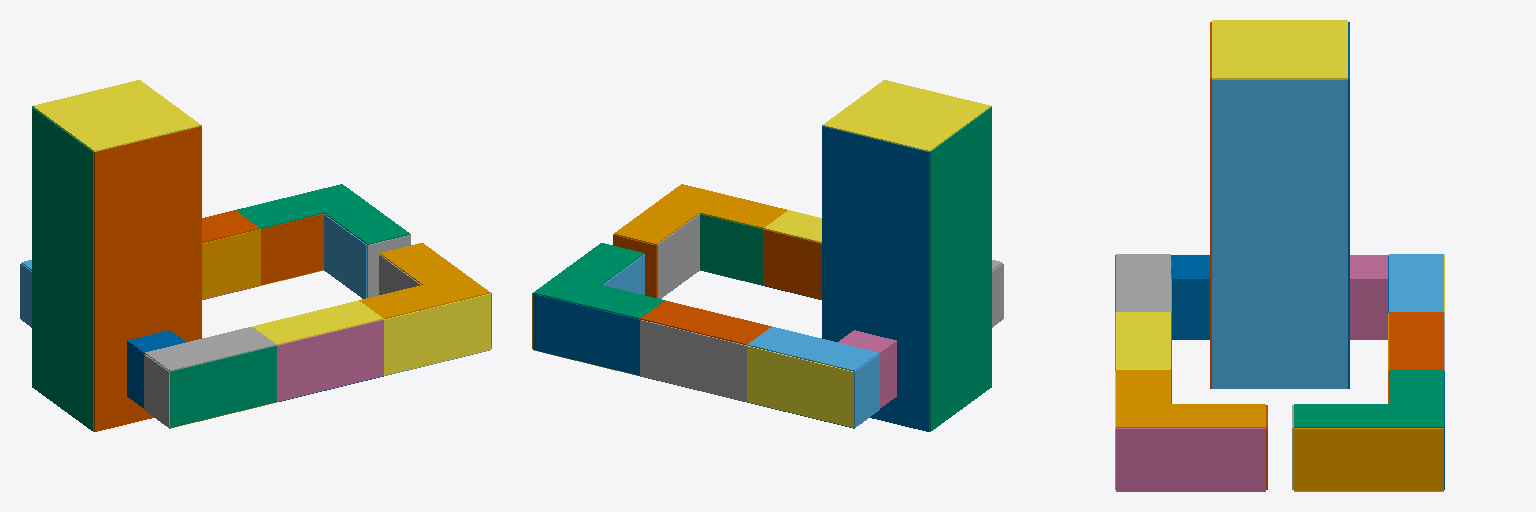
--- What the picture shows (computed from the rendered views, not written in the file) ---
The picture shows the robot from 3 angles, left to right: view 1: azimuth 30°, elevation 25°; view 2: azimuth 150°, elevation 25°; view 3: azimuth 270°, elevation 25°; orthographic projection.
Model robot with 72 links and 71 joints (2 continuous, 69 fixed), rooted at body, posed all joints at 0.
Links seen in each view (by area): view 1: body_sensor_0_right, body_sensor_0_stop, body_sensor_0_top, right_arm_sensor_2_right, right_arm_sensor_0_right, right_arm_sensor_1_right, left_arm_sensor_2_right, left_arm_sensor_1_right, right_arm_sensor_0_top, right_arm_sensor_1_top, right_arm_sensor_2_top, left_arm_sensor_2_top (+9 smaller); view 2: body_sensor_0_left, body_sensor_0_stop, body_sensor_0_top, left_arm_sensor_2_left, left_arm_sensor_0_left, left_arm_sensor_1_left, right_arm_sensor_2_left, right_arm_sensor_1_left, left_arm_sensor_0_top, left_arm_sensor_1_top, left_arm_sensor_2_top, right_arm_sensor_2_top (+9 smaller); view 3: body_sensor_0_start, body_sensor_0_top, left_hand_sensor_0_top, right_hand_sensor_0_top, left_arm_sensor_0_start, right_arm_sensor_0_start, right_shoulder, left_shoulder, left_arm_sensor_0_top, left_arm_sensor_1_top, left_arm_sensor_2_top, right_arm_sensor_0_top (+6 smaller).
Link boxes in pixels (x1,y1,x2,y2): body_sensor_0_right: (94,126,201,431); body_sensor_0_stop: (32,107,93,431); body_sensor_0_top: (33,80,200,151); right_arm_sensor_2_right: (384,293,490,375); right_arm_sensor_0_right: (170,346,276,427); right_arm_sensor_1_right: (277,320,383,401); left_arm_sensor_2_right: (261,214,323,284); left_arm_sensor_1_right: (202,229,260,299); right_arm_sensor_0_top: (145,327,276,371); right_arm_sensor_1_top: (252,300,383,344); right_arm_sensor_2_top: (359,274,489,318); left_arm_sensor_2_top: (236,184,365,228); body_sensor_0_left: (822,126,929,431); body_sensor_0_stop: (930,107,991,431); body_sensor_0_top: (823,80,990,151); left_arm_sensor_2_left: (533,293,639,375); left_arm_sensor_0_left: (747,346,853,427); left_arm_sensor_1_left: (640,320,746,401); right_arm_sensor_2_left: (700,214,762,284); right_arm_sensor_1_left: (763,229,821,299); left_arm_sensor_0_top: (747,327,878,371); left_arm_sensor_1_top: (640,300,771,344); left_arm_sensor_2_top: (534,274,664,318); right_arm_sensor_2_top: (658,184,787,228); body_sensor_0_start: (1212,79,1347,388); body_sensor_0_top: (1212,20,1347,78); left_hand_sensor_0_top: (1294,428,1388,490); right_hand_sensor_0_top: (1171,428,1265,490); left_arm_sensor_0_start: (1389,428,1443,490); right_arm_sensor_0_start: (1116,428,1170,490); right_shoulder: (1171,255,1209,339); left_shoulder: (1350,255,1388,339); left_arm_sensor_0_top: (1389,254,1443,311); left_arm_sensor_1_top: (1389,312,1443,369); left_arm_sensor_2_top: (1389,370,1443,427); right_arm_sensor_0_top: (1116,254,1170,311).
Size in the robot's own frame: 3.32 by 2.42 by 2.51 metres.
Geometry: primitives only (box / cylinder / sphere), no mesh files.

The robot description file, URDF, robot "robot":
<?xml version="1.0"?>
<robot name="robot">


    <!-- body -->
    <link name="body">
        <inertial>
            <origin xyz="0 0 0" rpy="0 0 0"/>
            <mass value="100"/>
            <inertia ixx=".1" ixy=".1" ixz=".1" iyy=".1" iyz=".1" izz=".1"/>
        </inertial>
        <visual>
            <origin xyz="0 0 0" rpy="0 0 0"/>
            <geometry>
                <box size="1 1 2.5"/>
            </geometry>
        </visual>
        <collision>
            <origin xyz="0 0 0" rpy="0 0 0"/>
            <geometry>
                <box size="1 1 2.5"/>
            </geometry>
        </collision>
    </link>


    <!-- body_sensor_0_start -->
    <link name="body_sensor_0_start">
        <inertial>
            <origin xyz="0 0 0" rpy="0 0 0"/>
            <mass value="0"/>
            <inertia ixx=".1" ixy=".1" ixz=".1" iyy=".1" iyz=".1" izz=".1"/>
        </inertial>
        <visual>
            <origin xyz="0 0 0" rpy="0 0 0"/>
            <geometry>
                <box size="0.02 1 2.5"/>
            </geometry>
        </visual>
        <collision>
            <origin xyz="0 0 0" rpy="0 0 0"/>
            <geometry>
                <box size="0.02 1 2.5"/>
            </geometry>
        </collision>
    </link>


    <!-- Joint: body, body_sensor_0_start -->
    <joint name="body_body_sensor_0_start_joint" type="fixed"> 
        <parent link="body"/> 
        <child link="body_sensor_0_start"/> 
        <origin xyz="0.5 0 0" rpy="0 0 0"/> 
        <axis xyz="1 0 0"/> 
    </joint>


    <!-- body_sensor_0_stop -->
    <link name="body_sensor_0_stop">
        <inertial>
            <origin xyz="0 0 0" rpy="0 0 0"/>
            <mass value="0"/>
            <inertia ixx=".1" ixy=".1" ixz=".1" iyy=".1" iyz=".1" izz=".1"/>
        </inertial>
        <visual>
            <origin xyz="0 0 0" rpy="0 0 0"/>
            <geometry>
                <box size="0.02 1 2.5"/>
            </geometry>
        </visual>
        <collision>
            <origin xyz="0 0 0" rpy="0 0 0"/>
            <geometry>
                <box size="0.02 1 2.5"/>
            </geometry>
        </collision>
    </link>


    <!-- Joint: body, body_sensor_0_stop -->
    <joint name="body_body_sensor_0_stop_joint" type="fixed"> 
        <parent link="body"/> 
        <child link="body_sensor_0_stop"/> 
        <origin xyz="-0.5 0 0" rpy="0 0 0"/> 
        <axis xyz="1 0 0"/> 
    </joint>


    <!-- body_sensor_0_top -->
    <link name="body_sensor_0_top">
        <inertial>
            <origin xyz="0 0 0" rpy="0 0 0"/>
            <mass value="0"/>
            <inertia ixx=".1" ixy=".1" ixz=".1" iyy=".1" iyz=".1" izz=".1"/>
        </inertial>
        <visual>
            <origin xyz="0 0 0" rpy="0 0 0"/>
            <geometry>
                <box size="1.0 1 0.02"/>
            </geometry>
        </visual>
        <collision>
            <origin xyz="0 0 0" rpy="0 0 0"/>
            <geometry>
                <box size="1.0 1 0.02"/>
            </geometry>
        </collision>
    </link>


    <!-- Joint: body, body_sensor_0_top -->
    <joint name="body_body_sensor_0_top_joint" type="fixed"> 
        <parent link="body"/> 
        <child link="body_sensor_0_top"/> 
        <origin xyz="0 0 1.25" rpy="0 0 0"/> 
        <axis xyz="1 0 0"/> 
    </joint>


    <!-- body_sensor_0_left -->
    <link name="body_sensor_0_left">
        <inertial>
            <origin xyz="0 0 0" rpy="0 0 0"/>
            <mass value="0"/>
            <inertia ixx=".1" ixy=".1" ixz=".1" iyy=".1" iyz=".1" izz=".1"/>
        </inertial>
        <visual>
            <origin xyz="0 0 0" rpy="0 0 0"/>
            <geometry>
                <box size="1.0 0.02 2.5"/>
            </geometry>
        </visual>
        <collision>
            <origin xyz="0 0 0" rpy="0 0 0"/>
            <geometry>
                <box size="1.0 0.02 2.5"/>
            </geometry>
        </collision>
    </link>


    <!-- Joint: body, body_sensor_0_left -->
    <joint name="body_body_sensor_0_left_joint" type="fixed"> 
        <parent link="body"/> 
        <child link="body_sensor_0_left"/> 
        <origin xyz="0 0.5 0" rpy="0 0 0"/> 
        <axis xyz="1 0 0"/> 
    </joint>


    <!-- body_sensor_0_right -->
    <link name="body_sensor_0_right">
        <inertial>
            <origin xyz="0 0 0" rpy="0 0 0"/>
            <mass value="0"/>
            <inertia ixx=".1" ixy=".1" ixz=".1" iyy=".1" iyz=".1" izz=".1"/>
        </inertial>
        <visual>
            <origin xyz="0 0 0" rpy="0 0 0"/>
            <geometry>
                <box size="1.0 0.02 2.5"/>
            </geometry>
        </visual>
        <collision>
            <origin xyz="0 0 0" rpy="0 0 0"/>
            <geometry>
                <box size="1.0 0.02 2.5"/>
            </geometry>
        </collision>
    </link>


    <!-- Joint: body, body_sensor_0_right -->
    <joint name="body_body_sensor_0_right_joint" type="fixed"> 
        <parent link="body"/> 
        <child link="body_sensor_0_right"/> 
        <origin xyz="0 -0.5 0" rpy="0 0 0"/> 
        <axis xyz="1 0 0"/> 
    </joint>


    <!-- left_shoulder -->
    <link name="left_shoulder">
        <inertial>
            <origin xyz="0 0 0" rpy="0 0 0"/>
            <mass value="0.1"/>
            <inertia ixx=".1" ixy=".1" ixz=".1" iyy=".1" iyz=".1" izz=".1"/>
        </inertial>
        <visual>
            <origin xyz="0 0 0" rpy="0 0 0"/>
            <geometry>
                <box size="0.4 0.3 0.5"/>
            </geometry>
        </visual>
        <collision>
            <origin xyz="0 0 0" rpy="0 0 0"/>
            <geometry>
                <box size="0.4 0.3 0.5"/>
            </geometry>
        </collision>
    </link>


    <!-- Joint: body, left_shoulder -->
    <joint name="body_left_shoulder_joint" type="continuous"> 
        <parent link="body"/> 
        <child link="left_shoulder"/> 
        <origin xyz="0 0.65 -0.75" rpy="0 0 0"/> 
        <axis xyz="0 -1 0"/> 
    </joint>


    <!-- left_arm -->
    <link name="left_arm">
        <inertial>
            <origin xyz="0 0 0" rpy="0 0 0"/>
            <mass value="0.1"/>
            <inertia ixx=".1" ixy=".1" ixz=".1" iyy=".1" iyz=".1" izz=".1"/>
        </inertial>
        <visual>
            <origin xyz="0 0 0" rpy="0 0 0"/>
            <geometry>
                <box size="3 0.4 0.5"/>
            </geometry>
        </visual>
        <collision>
            <origin xyz="0 0 0" rpy="0 0 0"/>
            <geometry>
                <box size="3 0.4 0.5"/>
            </geometry>
        </collision>
    </link>


    <!-- left_arm_sensor_0_start -->
    <link name="left_arm_sensor_0_start">
        <inertial>
            <origin xyz="0 0 0" rpy="0 0 0"/>
            <mass value="0"/>
            <inertia ixx=".1" ixy=".1" ixz=".1" iyy=".1" iyz=".1" izz=".1"/>
        </inertial>
        <visual>
            <origin xyz="0 0 0" rpy="0 0 0"/>
            <geometry>
                <box size="0.02 0.4 0.5"/>
            </geometry>
        </visual>
        <collision>
            <origin xyz="0 0 0" rpy="0 0 0"/>
            <geometry>
                <box size="0.02 0.4 0.5"/>
            </geometry>
        </collision>
    </link>


    <!-- Joint: left_arm, left_arm_sensor_0_start -->
    <joint name="left_arm_left_arm_sensor_0_start_joint" type="fixed"> 
        <parent link="left_arm"/> 
        <child link="left_arm_sensor_0_start"/> 
        <origin xyz="1.5 0 0" rpy="0 0 0"/> 
        <axis xyz="1 0 0"/> 
    </joint>


    <!-- left_arm_sensor_0_top -->
    <link name="left_arm_sensor_0_top">
        <inertial>
            <origin xyz="0 0 0" rpy="0 0 0"/>
            <mass value="0"/>
            <inertia ixx=".1" ixy=".1" ixz=".1" iyy=".1" iyz=".1" izz=".1"/>
        </inertial>
        <visual>
            <origin xyz="0 0 0" rpy="0 0 0"/>
            <geometry>
                <box size="1.0 0.4 0.02"/>
            </geometry>
        </visual>
        <collision>
            <origin xyz="0 0 0" rpy="0 0 0"/>
            <geometry>
                <box size="1.0 0.4 0.02"/>
            </geometry>
        </collision>
    </link>


    <!-- Joint: left_arm, left_arm_sensor_0_top -->
    <joint name="left_arm_left_arm_sensor_0_top_joint" type="fixed"> 
        <parent link="left_arm"/> 
        <child link="left_arm_sensor_0_top"/> 
        <origin xyz="-1.0 0 0.25" rpy="0 0 0"/> 
        <axis xyz="1 0 0"/> 
    </joint>


    <!-- left_arm_sensor_0_bottom -->
    <link name="left_arm_sensor_0_bottom">
        <inertial>
            <origin xyz="0 0 0" rpy="0 0 0"/>
            <mass value="0"/>
            <inertia ixx=".1" ixy=".1" ixz=".1" iyy=".1" iyz=".1" izz=".1"/>
        </inertial>
        <visual>
            <origin xyz="0 0 0" rpy="0 0 0"/>
            <geometry>
                <box size="1.0 0.4 0.02"/>
            </geometry>
        </visual>
        <collision>
            <origin xyz="0 0 0" rpy="0 0 0"/>
            <geometry>
                <box size="1.0 0.4 0.02"/>
            </geometry>
        </collision>
    </link>


    <!-- Joint: left_arm, left_arm_sensor_0_bottom -->
    <joint name="left_arm_left_arm_sensor_0_bottom_joint" type="fixed"> 
        <parent link="left_arm"/> 
        <child link="left_arm_sensor_0_bottom"/> 
        <origin xyz="-1.0 0 -0.25" rpy="0 0 0"/> 
        <axis xyz="1 0 0"/> 
    </joint>


    <!-- left_arm_sensor_0_left -->
    <link name="left_arm_sensor_0_left">
        <inertial>
            <origin xyz="0 0 0" rpy="0 0 0"/>
            <mass value="0"/>
            <inertia ixx=".1" ixy=".1" ixz=".1" iyy=".1" iyz=".1" izz=".1"/>
        </inertial>
        <visual>
            <origin xyz="0 0 0" rpy="0 0 0"/>
            <geometry>
                <box size="1.0 0.02 0.5"/>
            </geometry>
        </visual>
        <collision>
            <origin xyz="0 0 0" rpy="0 0 0"/>
            <geometry>
                <box size="1.0 0.02 0.5"/>
            </geometry>
        </collision>
    </link>


    <!-- Joint: left_arm, left_arm_sensor_0_left -->
    <joint name="left_arm_left_arm_sensor_0_left_joint" type="fixed"> 
        <parent link="left_arm"/> 
        <child link="left_arm_sensor_0_left"/> 
        <origin xyz="-1.0 0.2 0" rpy="0 0 0"/> 
        <axis xyz="1 0 0"/> 
    </joint>


    <!-- left_arm_sensor_0_right -->
    <link name="left_arm_sensor_0_right">
        <inertial>
            <origin xyz="0 0 0" rpy="0 0 0"/>
            <mass value="0"/>
            <inertia ixx=".1" ixy=".1" ixz=".1" iyy=".1" iyz=".1" izz=".1"/>
        </inertial>
        <visual>
            <origin xyz="0 0 0" rpy="0 0 0"/>
            <geometry>
                <box size="1.0 0.02 0.5"/>
            </geometry>
        </visual>
        <collision>
            <origin xyz="0 0 0" rpy="0 0 0"/>
            <geometry>
                <box size="1.0 0.02 0.5"/>
            </geometry>
        </collision>
    </link>


    <!-- Joint: left_arm, left_arm_sensor_0_right -->
    <joint name="left_arm_left_arm_sensor_0_right_joint" type="fixed"> 
        <parent link="left_arm"/> 
        <child link="left_arm_sensor_0_right"/> 
        <origin xyz="-1.0 -0.2 0" rpy="0 0 0"/> 
        <axis xyz="1 0 0"/> 
    </joint>


    <!-- left_arm_sensor_1_top -->
    <link name="left_arm_sensor_1_top">
        <inertial>
            <origin xyz="0 0 0" rpy="0 0 0"/>
            <mass value="0"/>
            <inertia ixx=".1" ixy=".1" ixz=".1" iyy=".1" iyz=".1" izz=".1"/>
        </inertial>
        <visual>
            <origin xyz="0 0 0" rpy="0 0 0"/>
            <geometry>
                <box size="1.0 0.4 0.02"/>
            </geometry>
        </visual>
        <collision>
            <origin xyz="0 0 0" rpy="0 0 0"/>
            <geometry>
                <box size="1.0 0.4 0.02"/>
            </geometry>
        </collision>
    </link>


    <!-- Joint: left_arm, left_arm_sensor_1_top -->
    <joint name="left_arm_left_arm_sensor_1_top_joint" type="fixed"> 
        <parent link="left_arm"/> 
        <child link="left_arm_sensor_1_top"/> 
        <origin xyz="0.0 0 0.25" rpy="0 0 0"/> 
        <axis xyz="1 0 0"/> 
    </joint>


    <!-- left_arm_sensor_1_bottom -->
    <link name="left_arm_sensor_1_bottom">
        <inertial>
            <origin xyz="0 0 0" rpy="0 0 0"/>
            <mass value="0"/>
            <inertia ixx=".1" ixy=".1" ixz=".1" iyy=".1" iyz=".1" izz=".1"/>
        </inertial>
        <visual>
            <origin xyz="0 0 0" rpy="0 0 0"/>
            <geometry>
                <box size="1.0 0.4 0.02"/>
            </geometry>
        </visual>
        <collision>
            <origin xyz="0 0 0" rpy="0 0 0"/>
            <geometry>
                <box size="1.0 0.4 0.02"/>
            </geometry>
        </collision>
    </link>


    <!-- Joint: left_arm, left_arm_sensor_1_bottom -->
    <joint name="left_arm_left_arm_sensor_1_bottom_joint" type="fixed"> 
        <parent link="left_arm"/> 
        <child link="left_arm_sensor_1_bottom"/> 
        <origin xyz="0.0 0 -0.25" rpy="0 0 0"/> 
        <axis xyz="1 0 0"/> 
    </joint>


    <!-- left_arm_sensor_1_left -->
    <link name="left_arm_sensor_1_left">
        <inertial>
            <origin xyz="0 0 0" rpy="0 0 0"/>
            <mass value="0"/>
            <inertia ixx=".1" ixy=".1" ixz=".1" iyy=".1" iyz=".1" izz=".1"/>
        </inertial>
        <visual>
            <origin xyz="0 0 0" rpy="0 0 0"/>
            <geometry>
                <box size="1.0 0.02 0.5"/>
            </geometry>
        </visual>
        <collision>
            <origin xyz="0 0 0" rpy="0 0 0"/>
            <geometry>
                <box size="1.0 0.02 0.5"/>
            </geometry>
        </collision>
    </link>


    <!-- Joint: left_arm, left_arm_sensor_1_left -->
    <joint name="left_arm_left_arm_sensor_1_left_joint" type="fixed"> 
        <parent link="left_arm"/> 
        <child link="left_arm_sensor_1_left"/> 
        <origin xyz="0.0 0.2 0" rpy="0 0 0"/> 
        <axis xyz="1 0 0"/> 
    </joint>


    <!-- left_arm_sensor_1_right -->
    <link name="left_arm_sensor_1_right">
        <inertial>
            <origin xyz="0 0 0" rpy="0 0 0"/>
            <mass value="0"/>
            <inertia ixx=".1" ixy=".1" ixz=".1" iyy=".1" iyz=".1" izz=".1"/>
        </inertial>
        <visual>
            <origin xyz="0 0 0" rpy="0 0 0"/>
            <geometry>
                <box size="1.0 0.02 0.5"/>
            </geometry>
        </visual>
        <collision>
            <origin xyz="0 0 0" rpy="0 0 0"/>
            <geometry>
                <box size="1.0 0.02 0.5"/>
            </geometry>
        </collision>
    </link>


    <!-- Joint: left_arm, left_arm_sensor_1_right -->
    <joint name="left_arm_left_arm_sensor_1_right_joint" type="fixed"> 
        <parent link="left_arm"/> 
        <child link="left_arm_sensor_1_right"/> 
        <origin xyz="0.0 -0.2 0" rpy="0 0 0"/> 
        <axis xyz="1 0 0"/> 
    </joint>


    <!-- left_arm_sensor_2_stop -->
    <link name="left_arm_sensor_2_stop">
        <inertial>
            <origin xyz="0 0 0" rpy="0 0 0"/>
            <mass value="0"/>
            <inertia ixx=".1" ixy=".1" ixz=".1" iyy=".1" iyz=".1" izz=".1"/>
        </inertial>
        <visual>
            <origin xyz="0 0 0" rpy="0 0 0"/>
            <geometry>
                <box size="0.02 0.4 0.5"/>
            </geometry>
        </visual>
        <collision>
            <origin xyz="0 0 0" rpy="0 0 0"/>
            <geometry>
                <box size="0.02 0.4 0.5"/>
            </geometry>
        </collision>
    </link>


    <!-- Joint: left_arm, left_arm_sensor_2_stop -->
    <joint name="left_arm_left_arm_sensor_2_stop_joint" type="fixed"> 
        <parent link="left_arm"/> 
        <child link="left_arm_sensor_2_stop"/> 
        <origin xyz="-1.5 0 0" rpy="0 0 0"/> 
        <axis xyz="1 0 0"/> 
    </joint>


    <!-- left_arm_sensor_2_top -->
    <link name="left_arm_sensor_2_top">
        <inertial>
            <origin xyz="0 0 0" rpy="0 0 0"/>
            <mass value="0"/>
            <inertia ixx=".1" ixy=".1" ixz=".1" iyy=".1" iyz=".1" izz=".1"/>
        </inertial>
        <visual>
            <origin xyz="0 0 0" rpy="0 0 0"/>
            <geometry>
                <box size="1.0 0.4 0.02"/>
            </geometry>
        </visual>
        <collision>
            <origin xyz="0 0 0" rpy="0 0 0"/>
            <geometry>
                <box size="1.0 0.4 0.02"/>
            </geometry>
        </collision>
    </link>


    <!-- Joint: left_arm, left_arm_sensor_2_top -->
    <joint name="left_arm_left_arm_sensor_2_top_joint" type="fixed"> 
        <parent link="left_arm"/> 
        <child link="left_arm_sensor_2_top"/> 
        <origin xyz="1.0 0 0.25" rpy="0 0 0"/> 
        <axis xyz="1 0 0"/> 
    </joint>


    <!-- left_arm_sensor_2_bottom -->
    <link name="left_arm_sensor_2_bottom">
        <inertial>
            <origin xyz="0 0 0" rpy="0 0 0"/>
            <mass value="0"/>
            <inertia ixx=".1" ixy=".1" ixz=".1" iyy=".1" iyz=".1" izz=".1"/>
        </inertial>
        <visual>
            <origin xyz="0 0 0" rpy="0 0 0"/>
            <geometry>
                <box size="1.0 0.4 0.02"/>
            </geometry>
        </visual>
        <collision>
            <origin xyz="0 0 0" rpy="0 0 0"/>
            <geometry>
                <box size="1.0 0.4 0.02"/>
            </geometry>
        </collision>
    </link>


    <!-- Joint: left_arm, left_arm_sensor_2_bottom -->
    <joint name="left_arm_left_arm_sensor_2_bottom_joint" type="fixed"> 
        <parent link="left_arm"/> 
        <child link="left_arm_sensor_2_bottom"/> 
        <origin xyz="1.0 0 -0.25" rpy="0 0 0"/> 
        <axis xyz="1 0 0"/> 
    </joint>


    <!-- left_arm_sensor_2_left -->
    <link name="left_arm_sensor_2_left">
        <inertial>
            <origin xyz="0 0 0" rpy="0 0 0"/>
            <mass value="0"/>
            <inertia ixx=".1" ixy=".1" ixz=".1" iyy=".1" iyz=".1" izz=".1"/>
        </inertial>
        <visual>
            <origin xyz="0 0 0" rpy="0 0 0"/>
            <geometry>
                <box size="1.0 0.02 0.5"/>
            </geometry>
        </visual>
        <collision>
            <origin xyz="0 0 0" rpy="0 0 0"/>
            <geometry>
                <box size="1.0 0.02 0.5"/>
            </geometry>
        </collision>
    </link>


    <!-- Joint: left_arm, left_arm_sensor_2_left -->
    <joint name="left_arm_left_arm_sensor_2_left_joint" type="fixed"> 
        <parent link="left_arm"/> 
        <child link="left_arm_sensor_2_left"/> 
        <origin xyz="1.0 0.2 0" rpy="0 0 0"/> 
        <axis xyz="1 0 0"/> 
    </joint>


    <!-- left_arm_sensor_2_right -->
    <link name="left_arm_sensor_2_right">
        <inertial>
            <origin xyz="0 0 0" rpy="0 0 0"/>
            <mass value="0"/>
            <inertia ixx=".1" ixy=".1" ixz=".1" iyy=".1" iyz=".1" izz=".1"/>
        </inertial>
        <visual>
            <origin xyz="0 0 0" rpy="0 0 0"/>
            <geometry>
                <box size="1.0 0.02 0.5"/>
            </geometry>
        </visual>
        <collision>
            <origin xyz="0 0 0" rpy="0 0 0"/>
            <geometry>
                <box size="1.0 0.02 0.5"/>
            </geometry>
        </collision>
    </link>


    <!-- Joint: left_arm, left_arm_sensor_2_right -->
    <joint name="left_arm_left_arm_sensor_2_right_joint" type="fixed"> 
        <parent link="left_arm"/> 
        <child link="left_arm_sensor_2_right"/> 
        <origin xyz="1.0 -0.2 0" rpy="0 0 0"/> 
        <axis xyz="1 0 0"/> 
    </joint>


    <!-- Joint: left_shoulder, left_arm -->
    <joint name="left_shoulder_left_arm_joint" type="fixed"> 
        <parent link="left_shoulder"/> 
        <child link="left_arm"/> 
        <origin xyz="1.3 0.35 0" rpy="0 0 0"/> 
        <axis xyz="1 0 0"/> 
    </joint>


    <!-- left_hand -->
    <link name="left_hand">
        <inertial>
            <origin xyz="0 0 0" rpy="0 0 0"/>
            <mass value="0.1"/>
            <inertia ixx=".1" ixy=".1" ixz=".1" iyy=".1" iyz=".1" izz=".1"/>
        </inertial>
        <visual>
            <origin xyz="0 0 0" rpy="0 0 0"/>
            <geometry>
                <box size="0.4 0.7 0.5"/>
            </geometry>
        </visual>
        <collision>
            <origin xyz="0 0 0" rpy="0 0 0"/>
            <geometry>
                <box size="0.4 0.7 0.5"/>
            </geometry>
        </collision>
    </link>


    <!-- left_hand_sensor_0_stop -->
    <link name="left_hand_sensor_0_stop">
        <inertial>
            <origin xyz="0 0 0" rpy="0 0 0"/>
            <mass value="0"/>
            <inertia ixx=".1" ixy=".1" ixz=".1" iyy=".1" iyz=".1" izz=".1"/>
        </inertial>
        <visual>
            <origin xyz="0 0 0" rpy="0 0 0"/>
            <geometry>
                <box size="0.4 0.02 0.5"/>
            </geometry>
        </visual>
        <collision>
            <origin xyz="0 0 0" rpy="0 0 0"/>
            <geometry>
                <box size="0.4 0.02 0.5"/>
            </geometry>
        </collision>
    </link>


    <!-- Joint: left_hand, left_hand_sensor_0_stop -->
    <joint name="left_hand_left_hand_sensor_0_stop_joint" type="fixed"> 
        <parent link="left_hand"/> 
        <child link="left_hand_sensor_0_stop"/> 
        <origin xyz="0 -0.35 0" rpy="0 0 0"/> 
        <axis xyz="0 0 1"/> 
    </joint>


    <!-- left_hand_sensor_0_top -->
    <link name="left_hand_sensor_0_top">
        <inertial>
            <origin xyz="0 0 0" rpy="0 0 0"/>
            <mass value="0"/>
            <inertia ixx=".1" ixy=".1" ixz=".1" iyy=".1" iyz=".1" izz=".1"/>
        </inertial>
        <visual>
            <origin xyz="0 0 0" rpy="0 0 0"/>
            <geometry>
                <box size="0.02 0.7 0.5"/>
            </geometry>
        </visual>
        <collision>
            <origin xyz="0 0 0" rpy="0 0 0"/>
            <geometry>
                <box size="0.02 0.7 0.5"/>
            </geometry>
        </collision>
    </link>


    <!-- Joint: left_hand, left_hand_sensor_0_top -->
    <joint name="left_hand_left_hand_sensor_0_top_joint" type="fixed"> 
        <parent link="left_hand"/> 
        <child link="left_hand_sensor_0_top"/> 
        <origin xyz="0.2 0 0" rpy="0 0 0"/> 
        <axis xyz="0 0 1"/> 
    </joint>


    <!-- left_hand_sensor_0_bottom -->
    <link name="left_hand_sensor_0_bottom">
        <inertial>
            <origin xyz="0 0 0" rpy="0 0 0"/>
            <mass value="0"/>
            <inertia ixx=".1" ixy=".1" ixz=".1" iyy=".1" iyz=".1" izz=".1"/>
        </inertial>
        <visual>
            <origin xyz="0 0 0" rpy="0 0 0"/>
            <geometry>
                <box size="0.02 0.7 0.5"/>
            </geometry>
        </visual>
        <collision>
            <origin xyz="0 0 0" rpy="0 0 0"/>
            <geometry>
                <box size="0.02 0.7 0.5"/>
            </geometry>
        </collision>
    </link>


    <!-- Joint: left_hand, left_hand_sensor_0_bottom -->
    <joint name="left_hand_left_hand_sensor_0_bottom_joint" type="fixed"> 
        <parent link="left_hand"/> 
        <child link="left_hand_sensor_0_bottom"/> 
        <origin xyz="-0.2 0 0" rpy="0 0 0"/> 
        <axis xyz="0 0 1"/> 
    </joint>


    <!-- left_hand_sensor_0_left -->
    <link name="left_hand_sensor_0_left">
        <inertial>
            <origin xyz="0 0 0" rpy="0 0 0"/>
            <mass value="0"/>
            <inertia ixx=".1" ixy=".1" ixz=".1" iyy=".1" iyz=".1" izz=".1"/>
        </inertial>
        <visual>
            <origin xyz="0 0 0" rpy="0 0 0"/>
            <geometry>
                <box size="0.4 0.7 0.02"/>
            </geometry>
        </visual>
        <collision>
            <origin xyz="0 0 0" rpy="0 0 0"/>
            <geometry>
                <box size="0.4 0.7 0.02"/>
            </geometry>
        </collision>
    </link>


    <!-- Joint: left_hand, left_hand_sensor_0_left -->
    <joint name="left_hand_left_hand_sensor_0_left_joint" type="fixed"> 
        <parent link="left_hand"/> 
        <child link="left_hand_sensor_0_left"/> 
        <origin xyz="0 0 0.25" rpy="0 0 0"/> 
        <axis xyz="0 0 1"/> 
    </joint>


    <!-- left_hand_sensor_0_right -->
    <link name="left_hand_sensor_0_right">
        <inertial>
            <origin xyz="0 0 0" rpy="0 0 0"/>
            <mass value="0"/>
            <inertia ixx=".1" ixy=".1" ixz=".1" iyy=".1" iyz=".1" izz=".1"/>
        </inertial>
        <visual>
            <origin xyz="0 0 0" rpy="0 0 0"/>
            <geometry>
                <box size="0.4 0.7 0.02"/>
            </geometry>
        </visual>
        <collision>
            <origin xyz="0 0 0" rpy="0 0 0"/>
            <geometry>
                <box size="0.4 0.7 0.02"/>
            </geometry>
        </collision>
    </link>


    <!-- Joint: left_hand, left_hand_sensor_0_right -->
    <joint name="left_hand_left_hand_sensor_0_right_joint" type="fixed"> 
        <parent link="left_hand"/> 
        <child link="left_hand_sensor_0_right"/> 
        <origin xyz="0 0 -0.25" rpy="0 0 0"/> 
        <axis xyz="0 0 1"/> 
    </joint>


    <!-- Joint: left_arm, left_hand -->
    <joint name="left_arm_left_hand_joint" type="fixed"> 
        <parent link="left_arm"/> 
        <child link="left_hand"/> 
        <origin xyz="1.3 -0.55 0" rpy="0 0 0"/> 
        <axis xyz="0 0 1"/> 
    </joint>


    <!-- right_shoulder -->
    <link name="right_shoulder">
        <inertial>
            <origin xyz="0 0 0" rpy="0 0 0"/>
            <mass value="0.1"/>
            <inertia ixx=".1" ixy=".1" ixz=".1" iyy=".1" iyz=".1" izz=".1"/>
        </inertial>
        <visual>
            <origin xyz="0 0 0" rpy="0 0 0"/>
            <geometry>
                <box size="0.4 0.3 0.5"/>
            </geometry>
        </visual>
        <collision>
            <origin xyz="0 0 0" rpy="0 0 0"/>
            <geometry>
                <box size="0.4 0.3 0.5"/>
            </geometry>
        </collision>
    </link>


    <!-- Joint: body, right_shoulder -->
    <joint name="body_right_shoulder_joint" type="continuous"> 
        <parent link="body"/> 
        <child link="right_shoulder"/> 
        <origin xyz="0 -0.65 -0.75" rpy="0 0 0"/> 
        <axis xyz="0 -1 0"/> 
    </joint>


    <!-- right_arm -->
    <link name="right_arm">
        <inertial>
            <origin xyz="0 0 0" rpy="0 0 0"/>
            <mass value="0.1"/>
            <inertia ixx=".1" ixy=".1" ixz=".1" iyy=".1" iyz=".1" izz=".1"/>
        </inertial>
        <visual>
            <origin xyz="0 0 0" rpy="0 0 0"/>
            <geometry>
                <box size="3 0.4 0.5"/>
            </geometry>
        </visual>
        <collision>
            <origin xyz="0 0 0" rpy="0 0 0"/>
            <geometry>
                <box size="3 0.4 0.5"/>
            </geometry>
        </collision>
    </link>


    <!-- right_arm_sensor_0_start -->
    <link name="right_arm_sensor_0_start">
        <inertial>
            <origin xyz="0 0 0" rpy="0 0 0"/>
            <mass value="0"/>
            <inertia ixx=".1" ixy=".1" ixz=".1" iyy=".1" iyz=".1" izz=".1"/>
        </inertial>
        <visual>
            <origin xyz="0 0 0" rpy="0 0 0"/>
            <geometry>
                <box size="0.02 0.4 0.5"/>
            </geometry>
        </visual>
        <collision>
            <origin xyz="0 0 0" rpy="0 0 0"/>
            <geometry>
                <box size="0.02 0.4 0.5"/>
            </geometry>
        </collision>
    </link>


    <!-- Joint: right_arm, right_arm_sensor_0_start -->
    <joint name="right_arm_right_arm_sensor_0_start_joint" type="fixed"> 
        <parent link="right_arm"/> 
        <child link="right_arm_sensor_0_start"/> 
        <origin xyz="1.5 0 0" rpy="0 0 0"/> 
        <axis xyz="1 0 0"/> 
    </joint>


    <!-- right_arm_sensor_0_top -->
    <link name="right_arm_sensor_0_top">
        <inertial>
            <origin xyz="0 0 0" rpy="0 0 0"/>
            <mass value="0"/>
            <inertia ixx=".1" ixy=".1" ixz=".1" iyy=".1" iyz=".1" izz=".1"/>
        </inertial>
        <visual>
            <origin xyz="0 0 0" rpy="0 0 0"/>
            <geometry>
                <box size="1.0 0.4 0.02"/>
            </geometry>
        </visual>
        <collision>
            <origin xyz="0 0 0" rpy="0 0 0"/>
            <geometry>
                <box size="1.0 0.4 0.02"/>
            </geometry>
        </collision>
    </link>


    <!-- Joint: right_arm, right_arm_sensor_0_top -->
    <joint name="right_arm_right_arm_sensor_0_top_joint" type="fixed"> 
        <parent link="right_arm"/> 
        <child link="right_arm_sensor_0_top"/> 
        <origin xyz="-1.0 0 0.25" rpy="0 0 0"/> 
        <axis xyz="1 0 0"/> 
    </joint>


    <!-- right_arm_sensor_0_bottom -->
    <link name="right_arm_sensor_0_bottom">
        <inertial>
            <origin xyz="0 0 0" rpy="0 0 0"/>
            <mass value="0"/>
            <inertia ixx=".1" ixy=".1" ixz=".1" iyy=".1" iyz=".1" izz=".1"/>
        </inertial>
        <visual>
            <origin xyz="0 0 0" rpy="0 0 0"/>
            <geometry>
                <box size="1.0 0.4 0.02"/>
            </geometry>
        </visual>
        <collision>
            <origin xyz="0 0 0" rpy="0 0 0"/>
            <geometry>
                <box size="1.0 0.4 0.02"/>
            </geometry>
        </collision>
    </link>


    <!-- Joint: right_arm, right_arm_sensor_0_bottom -->
    <joint name="right_arm_right_arm_sensor_0_bottom_joint" type="fixed"> 
        <parent link="right_arm"/> 
        <child link="right_arm_sensor_0_bottom"/> 
        <origin xyz="-1.0 0 -0.25" rpy="0 0 0"/> 
        <axis xyz="1 0 0"/> 
    </joint>


    <!-- right_arm_sensor_0_left -->
    <link name="right_arm_sensor_0_left">
        <inertial>
            <origin xyz="0 0 0" rpy="0 0 0"/>
            <mass value="0"/>
            <inertia ixx=".1" ixy=".1" ixz=".1" iyy=".1" iyz=".1" izz=".1"/>
        </inertial>
        <visual>
            <origin xyz="0 0 0" rpy="0 0 0"/>
            <geometry>
                <box size="1.0 0.02 0.5"/>
            </geometry>
        </visual>
        <collision>
            <origin xyz="0 0 0" rpy="0 0 0"/>
            <geometry>
                <box size="1.0 0.02 0.5"/>
            </geometry>
        </collision>
    </link>


    <!-- Joint: right_arm, right_arm_sensor_0_left -->
    <joint name="right_arm_right_arm_sensor_0_left_joint" type="fixed"> 
        <parent link="right_arm"/> 
        <child link="right_arm_sensor_0_left"/> 
        <origin xyz="-1.0 0.2 0" rpy="0 0 0"/> 
        <axis xyz="1 0 0"/> 
    </joint>


    <!-- right_arm_sensor_0_right -->
    <link name="right_arm_sensor_0_right">
        <inertial>
            <origin xyz="0 0 0" rpy="0 0 0"/>
            <mass value="0"/>
            <inertia ixx=".1" ixy=".1" ixz=".1" iyy=".1" iyz=".1" izz=".1"/>
        </inertial>
        <visual>
            <origin xyz="0 0 0" rpy="0 0 0"/>
            <geometry>
                <box size="1.0 0.02 0.5"/>
            </geometry>
        </visual>
        <collision>
            <origin xyz="0 0 0" rpy="0 0 0"/>
            <geometry>
                <box size="1.0 0.02 0.5"/>
            </geometry>
        </collision>
    </link>


    <!-- Joint: right_arm, right_arm_sensor_0_right -->
    <joint name="right_arm_right_arm_sensor_0_right_joint" type="fixed"> 
        <parent link="right_arm"/> 
        <child link="right_arm_sensor_0_right"/> 
        <origin xyz="-1.0 -0.2 0" rpy="0 0 0"/> 
        <axis xyz="1 0 0"/> 
    </joint>


    <!-- right_arm_sensor_1_top -->
    <link name="right_arm_sensor_1_top">
        <inertial>
            <origin xyz="0 0 0" rpy="0 0 0"/>
            <mass value="0"/>
            <inertia ixx=".1" ixy=".1" ixz=".1" iyy=".1" iyz=".1" izz=".1"/>
        </inertial>
        <visual>
            <origin xyz="0 0 0" rpy="0 0 0"/>
            <geometry>
                <box size="1.0 0.4 0.02"/>
            </geometry>
        </visual>
        <collision>
            <origin xyz="0 0 0" rpy="0 0 0"/>
            <geometry>
                <box size="1.0 0.4 0.02"/>
            </geometry>
        </collision>
    </link>


    <!-- Joint: right_arm, right_arm_sensor_1_top -->
    <joint name="right_arm_right_arm_sensor_1_top_joint" type="fixed"> 
        <parent link="right_arm"/> 
        <child link="right_arm_sensor_1_top"/> 
        <origin xyz="0.0 0 0.25" rpy="0 0 0"/> 
        <axis xyz="1 0 0"/> 
    </joint>


    <!-- right_arm_sensor_1_bottom -->
    <link name="right_arm_sensor_1_bottom">
        <inertial>
            <origin xyz="0 0 0" rpy="0 0 0"/>
            <mass value="0"/>
            <inertia ixx=".1" ixy=".1" ixz=".1" iyy=".1" iyz=".1" izz=".1"/>
        </inertial>
        <visual>
            <origin xyz="0 0 0" rpy="0 0 0"/>
            <geometry>
                <box size="1.0 0.4 0.02"/>
            </geometry>
        </visual>
        <collision>
            <origin xyz="0 0 0" rpy="0 0 0"/>
            <geometry>
                <box size="1.0 0.4 0.02"/>
            </geometry>
        </collision>
    </link>


    <!-- Joint: right_arm, right_arm_sensor_1_bottom -->
    <joint name="right_arm_right_arm_sensor_1_bottom_joint" type="fixed"> 
        <parent link="right_arm"/> 
        <child link="right_arm_sensor_1_bottom"/> 
        <origin xyz="0.0 0 -0.25" rpy="0 0 0"/> 
        <axis xyz="1 0 0"/> 
    </joint>


    <!-- right_arm_sensor_1_left -->
    <link name="right_arm_sensor_1_left">
        <inertial>
            <origin xyz="0 0 0" rpy="0 0 0"/>
            <mass value="0"/>
            <inertia ixx=".1" ixy=".1" ixz=".1" iyy=".1" iyz=".1" izz=".1"/>
        </inertial>
        <visual>
            <origin xyz="0 0 0" rpy="0 0 0"/>
            <geometry>
                <box size="1.0 0.02 0.5"/>
            </geometry>
        </visual>
        <collision>
            <origin xyz="0 0 0" rpy="0 0 0"/>
            <geometry>
                <box size="1.0 0.02 0.5"/>
            </geometry>
        </collision>
    </link>


    <!-- Joint: right_arm, right_arm_sensor_1_left -->
    <joint name="right_arm_right_arm_sensor_1_left_joint" type="fixed"> 
        <parent link="right_arm"/> 
        <child link="right_arm_sensor_1_left"/> 
        <origin xyz="0.0 0.2 0" rpy="0 0 0"/> 
        <axis xyz="1 0 0"/> 
    </joint>


    <!-- right_arm_sensor_1_right -->
    <link name="right_arm_sensor_1_right">
        <inertial>
            <origin xyz="0 0 0" rpy="0 0 0"/>
            <mass value="0"/>
            <inertia ixx=".1" ixy=".1" ixz=".1" iyy=".1" iyz=".1" izz=".1"/>
        </inertial>
        <visual>
            <origin xyz="0 0 0" rpy="0 0 0"/>
            <geometry>
                <box size="1.0 0.02 0.5"/>
            </geometry>
        </visual>
        <collision>
            <origin xyz="0 0 0" rpy="0 0 0"/>
            <geometry>
                <box size="1.0 0.02 0.5"/>
            </geometry>
        </collision>
    </link>


    <!-- Joint: right_arm, right_arm_sensor_1_right -->
    <joint name="right_arm_right_arm_sensor_1_right_joint" type="fixed"> 
        <parent link="right_arm"/> 
        <child link="right_arm_sensor_1_right"/> 
        <origin xyz="0.0 -0.2 0" rpy="0 0 0"/> 
        <axis xyz="1 0 0"/> 
    </joint>


    <!-- right_arm_sensor_2_stop -->
    <link name="right_arm_sensor_2_stop">
        <inertial>
            <origin xyz="0 0 0" rpy="0 0 0"/>
            <mass value="0"/>
            <inertia ixx=".1" ixy=".1" ixz=".1" iyy=".1" iyz=".1" izz=".1"/>
        </inertial>
        <visual>
            <origin xyz="0 0 0" rpy="0 0 0"/>
            <geometry>
                <box size="0.02 0.4 0.5"/>
            </geometry>
        </visual>
        <collision>
            <origin xyz="0 0 0" rpy="0 0 0"/>
            <geometry>
                <box size="0.02 0.4 0.5"/>
            </geometry>
        </collision>
    </link>


    <!-- Joint: right_arm, right_arm_sensor_2_stop -->
    <joint name="right_arm_right_arm_sensor_2_stop_joint" type="fixed"> 
        <parent link="right_arm"/> 
        <child link="right_arm_sensor_2_stop"/> 
        <origin xyz="-1.5 0 0" rpy="0 0 0"/> 
        <axis xyz="1 0 0"/> 
    </joint>


    <!-- right_arm_sensor_2_top -->
    <link name="right_arm_sensor_2_top">
        <inertial>
            <origin xyz="0 0 0" rpy="0 0 0"/>
            <mass value="0"/>
            <inertia ixx=".1" ixy=".1" ixz=".1" iyy=".1" iyz=".1" izz=".1"/>
        </inertial>
        <visual>
            <origin xyz="0 0 0" rpy="0 0 0"/>
            <geometry>
                <box size="1.0 0.4 0.02"/>
            </geometry>
        </visual>
        <collision>
            <origin xyz="0 0 0" rpy="0 0 0"/>
            <geometry>
                <box size="1.0 0.4 0.02"/>
            </geometry>
        </collision>
    </link>


    <!-- Joint: right_arm, right_arm_sensor_2_top -->
    <joint name="right_arm_right_arm_sensor_2_top_joint" type="fixed"> 
        <parent link="right_arm"/> 
        <child link="right_arm_sensor_2_top"/> 
        <origin xyz="1.0 0 0.25" rpy="0 0 0"/> 
        <axis xyz="1 0 0"/> 
    </joint>


    <!-- right_arm_sensor_2_bottom -->
    <link name="right_arm_sensor_2_bottom">
        <inertial>
            <origin xyz="0 0 0" rpy="0 0 0"/>
            <mass value="0"/>
            <inertia ixx=".1" ixy=".1" ixz=".1" iyy=".1" iyz=".1" izz=".1"/>
        </inertial>
        <visual>
            <origin xyz="0 0 0" rpy="0 0 0"/>
            <geometry>
                <box size="1.0 0.4 0.02"/>
            </geometry>
        </visual>
        <collision>
            <origin xyz="0 0 0" rpy="0 0 0"/>
            <geometry>
                <box size="1.0 0.4 0.02"/>
            </geometry>
        </collision>
    </link>


    <!-- Joint: right_arm, right_arm_sensor_2_bottom -->
    <joint name="right_arm_right_arm_sensor_2_bottom_joint" type="fixed"> 
        <parent link="right_arm"/> 
        <child link="right_arm_sensor_2_bottom"/> 
        <origin xyz="1.0 0 -0.25" rpy="0 0 0"/> 
        <axis xyz="1 0 0"/> 
    </joint>


    <!-- right_arm_sensor_2_left -->
    <link name="right_arm_sensor_2_left">
        <inertial>
            <origin xyz="0 0 0" rpy="0 0 0"/>
            <mass value="0"/>
            <inertia ixx=".1" ixy=".1" ixz=".1" iyy=".1" iyz=".1" izz=".1"/>
        </inertial>
        <visual>
            <origin xyz="0 0 0" rpy="0 0 0"/>
            <geometry>
                <box size="1.0 0.02 0.5"/>
            </geometry>
        </visual>
        <collision>
            <origin xyz="0 0 0" rpy="0 0 0"/>
            <geometry>
                <box size="1.0 0.02 0.5"/>
            </geometry>
        </collision>
    </link>


    <!-- Joint: right_arm, right_arm_sensor_2_left -->
    <joint name="right_arm_right_arm_sensor_2_left_joint" type="fixed"> 
        <parent link="right_arm"/> 
        <child link="right_arm_sensor_2_left"/> 
        <origin xyz="1.0 0.2 0" rpy="0 0 0"/> 
        <axis xyz="1 0 0"/> 
    </joint>


    <!-- right_arm_sensor_2_right -->
    <link name="right_arm_sensor_2_right">
        <inertial>
            <origin xyz="0 0 0" rpy="0 0 0"/>
            <mass value="0"/>
            <inertia ixx=".1" ixy=".1" ixz=".1" iyy=".1" iyz=".1" izz=".1"/>
        </inertial>
        <visual>
            <origin xyz="0 0 0" rpy="0 0 0"/>
            <geometry>
                <box size="1.0 0.02 0.5"/>
            </geometry>
        </visual>
        <collision>
            <origin xyz="0 0 0" rpy="0 0 0"/>
            <geometry>
                <box size="1.0 0.02 0.5"/>
            </geometry>
        </collision>
    </link>


    <!-- Joint: right_arm, right_arm_sensor_2_right -->
    <joint name="right_arm_right_arm_sensor_2_right_joint" type="fixed"> 
        <parent link="right_arm"/> 
        <child link="right_arm_sensor_2_right"/> 
        <origin xyz="1.0 -0.2 0" rpy="0 0 0"/> 
        <axis xyz="1 0 0"/> 
    </joint>


    <!-- Joint: right_shoulder, right_arm -->
    <joint name="right_shoulder_right_arm_joint" type="fixed"> 
        <parent link="right_shoulder"/> 
        <child link="right_arm"/> 
        <origin xyz="1.3 -0.35 0" rpy="0 0 0"/> 
        <axis xyz="1 0 0"/> 
    </joint>


    <!-- right_hand -->
    <link name="right_hand">
        <inertial>
            <origin xyz="0 0 0" rpy="0 0 0"/>
            <mass value="0.1"/>
            <inertia ixx=".1" ixy=".1" ixz=".1" iyy=".1" iyz=".1" izz=".1"/>
        </inertial>
        <visual>
            <origin xyz="0 0 0" rpy="0 0 0"/>
            <geometry>
                <box size="0.4 0.7 0.5"/>
            </geometry>
        </visual>
        <collision>
            <origin xyz="0 0 0" rpy="0 0 0"/>
            <geometry>
                <box size="0.4 0.7 0.5"/>
            </geometry>
        </collision>
    </link>


    <!-- right_hand_sensor_0_start -->
    <link name="right_hand_sensor_0_start">
        <inertial>
            <origin xyz="0 0 0" rpy="0 0 0"/>
            <mass value="0"/>
            <inertia ixx=".1" ixy=".1" ixz=".1" iyy=".1" iyz=".1" izz=".1"/>
        </inertial>
        <visual>
            <origin xyz="0 0 0" rpy="0 0 0"/>
            <geometry>
                <box size="0.4 0.02 0.5"/>
            </geometry>
        </visual>
        <collision>
            <origin xyz="0 0 0" rpy="0 0 0"/>
            <geometry>
                <box size="0.4 0.02 0.5"/>
            </geometry>
        </collision>
    </link>


    <!-- Joint: right_hand, right_hand_sensor_0_start -->
    <joint name="right_hand_right_hand_sensor_0_start_joint" type="fixed"> 
        <parent link="right_hand"/> 
        <child link="right_hand_sensor_0_start"/> 
        <origin xyz="0 0.35 0" rpy="0 0 0"/> 
        <axis xyz="0 0 1"/> 
    </joint>


    <!-- right_hand_sensor_0_top -->
    <link name="right_hand_sensor_0_top">
        <inertial>
            <origin xyz="0 0 0" rpy="0 0 0"/>
            <mass value="0"/>
            <inertia ixx=".1" ixy=".1" ixz=".1" iyy=".1" iyz=".1" izz=".1"/>
        </inertial>
        <visual>
            <origin xyz="0 0 0" rpy="0 0 0"/>
            <geometry>
                <box size="0.02 0.7 0.5"/>
            </geometry>
        </visual>
        <collision>
            <origin xyz="0 0 0" rpy="0 0 0"/>
            <geometry>
                <box size="0.02 0.7 0.5"/>
            </geometry>
        </collision>
    </link>


    <!-- Joint: right_hand, right_hand_sensor_0_top -->
    <joint name="right_hand_right_hand_sensor_0_top_joint" type="fixed"> 
        <parent link="right_hand"/> 
        <child link="right_hand_sensor_0_top"/> 
        <origin xyz="0.2 0 0" rpy="0 0 0"/> 
        <axis xyz="0 0 1"/> 
    </joint>


    <!-- right_hand_sensor_0_bottom -->
    <link name="right_hand_sensor_0_bottom">
        <inertial>
            <origin xyz="0 0 0" rpy="0 0 0"/>
            <mass value="0"/>
            <inertia ixx=".1" ixy=".1" ixz=".1" iyy=".1" iyz=".1" izz=".1"/>
        </inertial>
        <visual>
            <origin xyz="0 0 0" rpy="0 0 0"/>
            <geometry>
                <box size="0.02 0.7 0.5"/>
            </geometry>
        </visual>
        <collision>
            <origin xyz="0 0 0" rpy="0 0 0"/>
            <geometry>
                <box size="0.02 0.7 0.5"/>
            </geometry>
        </collision>
    </link>


    <!-- Joint: right_hand, right_hand_sensor_0_bottom -->
    <joint name="right_hand_right_hand_sensor_0_bottom_joint" type="fixed"> 
        <parent link="right_hand"/> 
        <child link="right_hand_sensor_0_bottom"/> 
        <origin xyz="-0.2 0 0" rpy="0 0 0"/> 
        <axis xyz="0 0 1"/> 
    </joint>


    <!-- right_hand_sensor_0_left -->
    <link name="right_hand_sensor_0_left">
        <inertial>
            <origin xyz="0 0 0" rpy="0 0 0"/>
            <mass value="0"/>
            <inertia ixx=".1" ixy=".1" ixz=".1" iyy=".1" iyz=".1" izz=".1"/>
        </inertial>
        <visual>
            <origin xyz="0 0 0" rpy="0 0 0"/>
            <geometry>
                <box size="0.4 0.7 0.02"/>
            </geometry>
        </visual>
        <collision>
            <origin xyz="0 0 0" rpy="0 0 0"/>
            <geometry>
                <box size="0.4 0.7 0.02"/>
            </geometry>
        </collision>
    </link>


    <!-- Joint: right_hand, right_hand_sensor_0_left -->
    <joint name="right_hand_right_hand_sensor_0_left_joint" type="fixed"> 
        <parent link="right_hand"/> 
        <child link="right_hand_sensor_0_left"/> 
        <origin xyz="0 0 0.25" rpy="0 0 0"/> 
        <axis xyz="0 0 1"/> 
    </joint>


    <!-- right_hand_sensor_0_right -->
    <link name="right_hand_sensor_0_right">
        <inertial>
            <origin xyz="0 0 0" rpy="0 0 0"/>
            <mass value="0"/>
            <inertia ixx=".1" ixy=".1" ixz=".1" iyy=".1" iyz=".1" izz=".1"/>
        </inertial>
        <visual>
            <origin xyz="0 0 0" rpy="0 0 0"/>
            <geometry>
                <box size="0.4 0.7 0.02"/>
            </geometry>
        </visual>
        <collision>
            <origin xyz="0 0 0" rpy="0 0 0"/>
            <geometry>
                <box size="0.4 0.7 0.02"/>
            </geometry>
        </collision>
    </link>


    <!-- Joint: right_hand, right_hand_sensor_0_right -->
    <joint name="right_hand_right_hand_sensor_0_right_joint" type="fixed"> 
        <parent link="right_hand"/> 
        <child link="right_hand_sensor_0_right"/> 
        <origin xyz="0 0 -0.25" rpy="0 0 0"/> 
        <axis xyz="0 0 1"/> 
    </joint>


    <!-- Joint: right_arm, right_hand -->
    <joint name="right_arm_right_hand_joint" type="fixed"> 
        <parent link="right_arm"/> 
        <child link="right_hand"/> 
        <origin xyz="1.3 0.55 0" rpy="0 0 0"/> 
        <axis xyz="0 0 1"/> 
    </joint>


    <!-- body_square_0 -->
    <link name="body_square_0">
        <inertial>
            <origin xyz="0 0 0" rpy="0 0 0"/>
            <mass value="0"/>
            <inertia ixx=".1" ixy=".1" ixz=".1" iyy=".1" iyz=".1" izz=".1"/>
        </inertial>
        <visual>
            <origin xyz="0 0 0" rpy="0 0 0"/>
            <geometry>
                <box size="0.002 0.1111111111111111 0.1111111111111111"/>
            </geometry>
        </visual>
        <collision>
            <origin xyz="0 0 0" rpy="0 0 0"/>
            <geometry>
                <box size="0.002 0.1111111111111111 0.1111111111111111"/>
            </geometry>
        </collision>
    </link>


    <!-- Joint: body, body_square_0 -->
    <joint name="body_body_square_0_joint" type="fixed"> 
        <parent link="body"/> 
        <child link="body_square_0"/> 
        <origin xyz="0.501 -0.33333333333333337 0.11111111111111116" rpy="0 0 0"/> 
        <axis xyz="0 0 1"/> 
    </joint>


    <!-- body_square_1 -->
    <link name="body_square_1">
        <inertial>
            <origin xyz="0 0 0" rpy="0 0 0"/>
            <mass value="0"/>
            <inertia ixx=".1" ixy=".1" ixz=".1" iyy=".1" iyz=".1" izz=".1"/>
        </inertial>
        <visual>
            <origin xyz="0 0 0" rpy="0 0 0"/>
            <geometry>
                <box size="0.002 0.1111111111111111 0.1111111111111111"/>
            </geometry>
        </visual>
        <collision>
            <origin xyz="0 0 0" rpy="0 0 0"/>
            <geometry>
                <box size="0.002 0.1111111111111111 0.1111111111111111"/>
            </geometry>
        </collision>
    </link>


    <!-- Joint: body, body_square_1 -->
    <joint name="body_body_square_1_joint" type="fixed"> 
        <parent link="body"/> 
        <child link="body_square_1"/> 
        <origin xyz="0.501 -0.2222222222222222 0.2222222222222222" rpy="0 0 0"/> 
        <axis xyz="0 0 1"/> 
    </joint>


    <!-- body_square_2 -->
    <link name="body_square_2">
        <inertial>
            <origin xyz="0 0 0" rpy="0 0 0"/>
            <mass value="0"/>
            <inertia ixx=".1" ixy=".1" ixz=".1" iyy=".1" iyz=".1" izz=".1"/>
        </inertial>
        <visual>
            <origin xyz="0 0 0" rpy="0 0 0"/>
            <geometry>
                <box size="0.002 0.1111111111111111 0.1111111111111111"/>
            </geometry>
        </visual>
        <collision>
            <origin xyz="0 0 0" rpy="0 0 0"/>
            <geometry>
                <box size="0.002 0.1111111111111111 0.1111111111111111"/>
            </geometry>
        </collision>
    </link>


    <!-- Joint: body, body_square_2 -->
    <joint name="body_body_square_2_joint" type="fixed"> 
        <parent link="body"/> 
        <child link="body_square_2"/> 
        <origin xyz="0.501 -0.1111111111111111 0.11111111111111116" rpy="0 0 0"/> 
        <axis xyz="0 0 1"/> 
    </joint>


    <!-- body_square_3 -->
    <link name="body_square_3">
        <inertial>
            <origin xyz="0 0 0" rpy="0 0 0"/>
            <mass value="0"/>
            <inertia ixx=".1" ixy=".1" ixz=".1" iyy=".1" iyz=".1" izz=".1"/>
        </inertial>
        <visual>
            <origin xyz="0 0 0" rpy="0 0 0"/>
            <geometry>
                <box size="0.002 0.1111111111111111 0.1111111111111111"/>
            </geometry>
        </visual>
        <collision>
            <origin xyz="0 0 0" rpy="0 0 0"/>
            <geometry>
                <box size="0.002 0.1111111111111111 0.1111111111111111"/>
            </geometry>
        </collision>
    </link>


    <!-- Joint: body, body_square_3 -->
    <joint name="body_body_square_3_joint" type="fixed"> 
        <parent link="body"/> 
        <child link="body_square_3"/> 
        <origin xyz="0.501 -0.1111111111111111 -0.2222222222222222" rpy="0 0 0"/> 
        <axis xyz="0 0 1"/> 
    </joint>


    <!-- body_square_4 -->
    <link name="body_square_4">
        <inertial>
            <origin xyz="0 0 0" rpy="0 0 0"/>
            <mass value="0"/>
            <inertia ixx=".1" ixy=".1" ixz=".1" iyy=".1" iyz=".1" izz=".1"/>
        </inertial>
        <visual>
            <origin xyz="0 0 0" rpy="0 0 0"/>
            <geometry>
                <box size="0.002 0.1111111111111111 0.1111111111111111"/>
            </geometry>
        </visual>
        <collision>
            <origin xyz="0 0 0" rpy="0 0 0"/>
            <geometry>
                <box size="0.002 0.1111111111111111 0.1111111111111111"/>
            </geometry>
        </collision>
    </link>


    <!-- Joint: body, body_square_4 -->
    <joint name="body_body_square_4_joint" type="fixed"> 
        <parent link="body"/> 
        <child link="body_square_4"/> 
        <origin xyz="0.501 0.0 -0.2222222222222222" rpy="0 0 0"/> 
        <axis xyz="0 0 1"/> 
    </joint>


    <!-- body_square_5 -->
    <link name="body_square_5">
        <inertial>
            <origin xyz="0 0 0" rpy="0 0 0"/>
            <mass value="0"/>
            <inertia ixx=".1" ixy=".1" ixz=".1" iyy=".1" iyz=".1" izz=".1"/>
        </inertial>
        <visual>
            <origin xyz="0 0 0" rpy="0 0 0"/>
            <geometry>
                <box size="0.002 0.1111111111111111 0.1111111111111111"/>
            </geometry>
        </visual>
        <collision>
            <origin xyz="0 0 0" rpy="0 0 0"/>
            <geometry>
                <box size="0.002 0.1111111111111111 0.1111111111111111"/>
            </geometry>
        </collision>
    </link>


    <!-- Joint: body, body_square_5 -->
    <joint name="body_body_square_5_joint" type="fixed"> 
        <parent link="body"/> 
        <child link="body_square_5"/> 
        <origin xyz="0.501 0.11111111111111116 0.11111111111111116" rpy="0 0 0"/> 
        <axis xyz="0 0 1"/> 
    </joint>


    <!-- body_square_6 -->
    <link name="body_square_6">
        <inertial>
            <origin xyz="0 0 0" rpy="0 0 0"/>
            <mass value="0"/>
            <inertia ixx=".1" ixy=".1" ixz=".1" iyy=".1" iyz=".1" izz=".1"/>
        </inertial>
        <visual>
            <origin xyz="0 0 0" rpy="0 0 0"/>
            <geometry>
                <box size="0.002 0.1111111111111111 0.1111111111111111"/>
            </geometry>
        </visual>
        <collision>
            <origin xyz="0 0 0" rpy="0 0 0"/>
            <geometry>
                <box size="0.002 0.1111111111111111 0.1111111111111111"/>
            </geometry>
        </collision>
    </link>


    <!-- Joint: body, body_square_6 -->
    <joint name="body_body_square_6_joint" type="fixed"> 
        <parent link="body"/> 
        <child link="body_square_6"/> 
        <origin xyz="0.501 0.11111111111111116 -0.2222222222222222" rpy="0 0 0"/> 
        <axis xyz="0 0 1"/> 
    </joint>


    <!-- body_square_7 -->
    <link name="body_square_7">
        <inertial>
            <origin xyz="0 0 0" rpy="0 0 0"/>
            <mass value="0"/>
            <inertia ixx=".1" ixy=".1" ixz=".1" iyy=".1" iyz=".1" izz=".1"/>
        </inertial>
        <visual>
            <origin xyz="0 0 0" rpy="0 0 0"/>
            <geometry>
                <box size="0.002 0.1111111111111111 0.1111111111111111"/>
            </geometry>
        </visual>
        <collision>
            <origin xyz="0 0 0" rpy="0 0 0"/>
            <geometry>
                <box size="0.002 0.1111111111111111 0.1111111111111111"/>
            </geometry>
        </collision>
    </link>


    <!-- Joint: body, body_square_7 -->
    <joint name="body_body_square_7_joint" type="fixed"> 
        <parent link="body"/> 
        <child link="body_square_7"/> 
        <origin xyz="0.501 0.2222222222222222 0.2222222222222222" rpy="0 0 0"/> 
        <axis xyz="0 0 1"/> 
    </joint>


    <!-- body_square_8 -->
    <link name="body_square_8">
        <inertial>
            <origin xyz="0 0 0" rpy="0 0 0"/>
            <mass value="0"/>
            <inertia ixx=".1" ixy=".1" ixz=".1" iyy=".1" iyz=".1" izz=".1"/>
        </inertial>
        <visual>
            <origin xyz="0 0 0" rpy="0 0 0"/>
            <geometry>
                <box size="0.002 0.1111111111111111 0.1111111111111111"/>
            </geometry>
        </visual>
        <collision>
            <origin xyz="0 0 0" rpy="0 0 0"/>
            <geometry>
                <box size="0.002 0.1111111111111111 0.1111111111111111"/>
            </geometry>
        </collision>
    </link>


    <!-- Joint: body, body_square_8 -->
    <joint name="body_body_square_8_joint" type="fixed"> 
        <parent link="body"/> 
        <child link="body_square_8"/> 
        <origin xyz="0.501 0.33333333333333337 0.11111111111111116" rpy="0 0 0"/> 
        <axis xyz="0 0 1"/> 
    </joint>


    <!-- body_square_9 -->
    <link name="body_square_9">
        <inertial>
            <origin xyz="0 0 0" rpy="0 0 0"/>
            <mass value="0"/>
            <inertia ixx=".1" ixy=".1" ixz=".1" iyy=".1" iyz=".1" izz=".1"/>
        </inertial>
        <visual>
            <origin xyz="0 0 0" rpy="0 0 0"/>
            <geometry>
                <box size="0.1111111111111111 0.1111111111111111 0.002"/>
            </geometry>
        </visual>
        <collision>
            <origin xyz="0 0 0" rpy="0 0 0"/>
            <geometry>
                <box size="0.1111111111111111 0.1111111111111111 0.002"/>
            </geometry>
        </collision>
    </link>


    <!-- Joint: body, body_square_9 -->
    <joint name="body_body_square_9_joint" type="fixed"> 
        <parent link="body"/> 
        <child link="body_square_9"/> 
        <origin xyz="0.11111111111111116 -0.2222222222222222 0.501" rpy="0 0 0"/> 
        <axis xyz="0 0 1"/> 
    </joint>


    <!-- body_square_10 -->
    <link name="body_square_10">
        <inertial>
            <origin xyz="0 0 0" rpy="0 0 0"/>
            <mass value="0"/>
            <inertia ixx=".1" ixy=".1" ixz=".1" iyy=".1" iyz=".1" izz=".1"/>
        </inertial>
        <visual>
            <origin xyz="0 0 0" rpy="0 0 0"/>
            <geometry>
                <box size="0.1111111111111111 0.1111111111111111 0.002"/>
            </geometry>
        </visual>
        <collision>
            <origin xyz="0 0 0" rpy="0 0 0"/>
            <geometry>
                <box size="0.1111111111111111 0.1111111111111111 0.002"/>
            </geometry>
        </collision>
    </link>


    <!-- Joint: body, body_square_10 -->
    <joint name="body_body_square_10_joint" type="fixed"> 
        <parent link="body"/> 
        <child link="body_square_10"/> 
        <origin xyz="0.11111111111111116 -0.1111111111111111 0.501" rpy="0 0 0"/> 
        <axis xyz="0 0 1"/> 
    </joint>


    <!-- body_square_11 -->
    <link name="body_square_11">
        <inertial>
            <origin xyz="0 0 0" rpy="0 0 0"/>
            <mass value="0"/>
            <inertia ixx=".1" ixy=".1" ixz=".1" iyy=".1" iyz=".1" izz=".1"/>
        </inertial>
        <visual>
            <origin xyz="0 0 0" rpy="0 0 0"/>
            <geometry>
                <box size="0.1111111111111111 0.1111111111111111 0.002"/>
            </geometry>
        </visual>
        <collision>
            <origin xyz="0 0 0" rpy="0 0 0"/>
            <geometry>
                <box size="0.1111111111111111 0.1111111111111111 0.002"/>
            </geometry>
        </collision>
    </link>


    <!-- Joint: body, body_square_11 -->
    <joint name="body_body_square_11_joint" type="fixed"> 
        <parent link="body"/> 
        <child link="body_square_11"/> 
        <origin xyz="0.2222222222222222 -0.1111111111111111 0.501" rpy="0 0 0"/> 
        <axis xyz="0 0 1"/> 
    </joint>


    <!-- body_square_12 -->
    <link name="body_square_12">
        <inertial>
            <origin xyz="0 0 0" rpy="0 0 0"/>
            <mass value="0"/>
            <inertia ixx=".1" ixy=".1" ixz=".1" iyy=".1" iyz=".1" izz=".1"/>
        </inertial>
        <visual>
            <origin xyz="0 0 0" rpy="0 0 0"/>
            <geometry>
                <box size="0.1111111111111111 0.1111111111111111 0.002"/>
            </geometry>
        </visual>
        <collision>
            <origin xyz="0 0 0" rpy="0 0 0"/>
            <geometry>
                <box size="0.1111111111111111 0.1111111111111111 0.002"/>
            </geometry>
        </collision>
    </link>


    <!-- Joint: body, body_square_12 -->
    <joint name="body_body_square_12_joint" type="fixed"> 
        <parent link="body"/> 
        <child link="body_square_12"/> 
        <origin xyz="-0.33333333333333337 0.0 0.501" rpy="0 0 0"/> 
        <axis xyz="0 0 1"/> 
    </joint>


    <!-- body_square_13 -->
    <link name="body_square_13">
        <inertial>
            <origin xyz="0 0 0" rpy="0 0 0"/>
            <mass value="0"/>
            <inertia ixx=".1" ixy=".1" ixz=".1" iyy=".1" iyz=".1" izz=".1"/>
        </inertial>
        <visual>
            <origin xyz="0 0 0" rpy="0 0 0"/>
            <geometry>
                <box size="0.1111111111111111 0.1111111111111111 0.002"/>
            </geometry>
        </visual>
        <collision>
            <origin xyz="0 0 0" rpy="0 0 0"/>
            <geometry>
                <box size="0.1111111111111111 0.1111111111111111 0.002"/>
            </geometry>
        </collision>
    </link>


    <!-- Joint: body, body_square_13 -->
    <joint name="body_body_square_13_joint" type="fixed"> 
        <parent link="body"/> 
        <child link="body_square_13"/> 
        <origin xyz="-0.2222222222222222 0.0 0.501" rpy="0 0 0"/> 
        <axis xyz="0 0 1"/> 
    </joint>


    <!-- body_square_14 -->
    <link name="body_square_14">
        <inertial>
            <origin xyz="0 0 0" rpy="0 0 0"/>
            <mass value="0"/>
            <inertia ixx=".1" ixy=".1" ixz=".1" iyy=".1" iyz=".1" izz=".1"/>
        </inertial>
        <visual>
            <origin xyz="0 0 0" rpy="0 0 0"/>
            <geometry>
                <box size="0.1111111111111111 0.1111111111111111 0.002"/>
            </geometry>
        </visual>
        <collision>
            <origin xyz="0 0 0" rpy="0 0 0"/>
            <geometry>
                <box size="0.1111111111111111 0.1111111111111111 0.002"/>
            </geometry>
        </collision>
    </link>


    <!-- Joint: body, body_square_14 -->
    <joint name="body_body_square_14_joint" type="fixed"> 
        <parent link="body"/> 
        <child link="body_square_14"/> 
        <origin xyz="-0.1111111111111111 0.0 0.501" rpy="0 0 0"/> 
        <axis xyz="0 0 1"/> 
    </joint>


    <!-- body_square_15 -->
    <link name="body_square_15">
        <inertial>
            <origin xyz="0 0 0" rpy="0 0 0"/>
            <mass value="0"/>
            <inertia ixx=".1" ixy=".1" ixz=".1" iyy=".1" iyz=".1" izz=".1"/>
        </inertial>
        <visual>
            <origin xyz="0 0 0" rpy="0 0 0"/>
            <geometry>
                <box size="0.1111111111111111 0.1111111111111111 0.002"/>
            </geometry>
        </visual>
        <collision>
            <origin xyz="0 0 0" rpy="0 0 0"/>
            <geometry>
                <box size="0.1111111111111111 0.1111111111111111 0.002"/>
            </geometry>
        </collision>
    </link>


    <!-- Joint: body, body_square_15 -->
    <joint name="body_body_square_15_joint" type="fixed"> 
        <parent link="body"/> 
        <child link="body_square_15"/> 
        <origin xyz="0.0 0.0 0.501" rpy="0 0 0"/> 
        <axis xyz="0 0 1"/> 
    </joint>


    <!-- body_square_16 -->
    <link name="body_square_16">
        <inertial>
            <origin xyz="0 0 0" rpy="0 0 0"/>
            <mass value="0"/>
            <inertia ixx=".1" ixy=".1" ixz=".1" iyy=".1" iyz=".1" izz=".1"/>
        </inertial>
        <visual>
            <origin xyz="0 0 0" rpy="0 0 0"/>
            <geometry>
                <box size="0.1111111111111111 0.1111111111111111 0.002"/>
            </geometry>
        </visual>
        <collision>
            <origin xyz="0 0 0" rpy="0 0 0"/>
            <geometry>
                <box size="0.1111111111111111 0.1111111111111111 0.002"/>
            </geometry>
        </collision>
    </link>


    <!-- Joint: body, body_square_16 -->
    <joint name="body_body_square_16_joint" type="fixed"> 
        <parent link="body"/> 
        <child link="body_square_16"/> 
        <origin xyz="0.11111111111111116 0.0 0.501" rpy="0 0 0"/> 
        <axis xyz="0 0 1"/> 
    </joint>


    <!-- body_square_17 -->
    <link name="body_square_17">
        <inertial>
            <origin xyz="0 0 0" rpy="0 0 0"/>
            <mass value="0"/>
            <inertia ixx=".1" ixy=".1" ixz=".1" iyy=".1" iyz=".1" izz=".1"/>
        </inertial>
        <visual>
            <origin xyz="0 0 0" rpy="0 0 0"/>
            <geometry>
                <box size="0.1111111111111111 0.1111111111111111 0.002"/>
            </geometry>
        </visual>
        <collision>
            <origin xyz="0 0 0" rpy="0 0 0"/>
            <geometry>
                <box size="0.1111111111111111 0.1111111111111111 0.002"/>
            </geometry>
        </collision>
    </link>


    <!-- Joint: body, body_square_17 -->
    <joint name="body_body_square_17_joint" type="fixed"> 
        <parent link="body"/> 
        <child link="body_square_17"/> 
        <origin xyz="0.2222222222222222 0.0 0.501" rpy="0 0 0"/> 
        <axis xyz="0 0 1"/> 
    </joint>


    <!-- body_square_18 -->
    <link name="body_square_18">
        <inertial>
            <origin xyz="0 0 0" rpy="0 0 0"/>
            <mass value="0"/>
            <inertia ixx=".1" ixy=".1" ixz=".1" iyy=".1" iyz=".1" izz=".1"/>
        </inertial>
        <visual>
            <origin xyz="0 0 0" rpy="0 0 0"/>
            <geometry>
                <box size="0.1111111111111111 0.1111111111111111 0.002"/>
            </geometry>
        </visual>
        <collision>
            <origin xyz="0 0 0" rpy="0 0 0"/>
            <geometry>
                <box size="0.1111111111111111 0.1111111111111111 0.002"/>
            </geometry>
        </collision>
    </link>


    <!-- Joint: body, body_square_18 -->
    <joint name="body_body_square_18_joint" type="fixed"> 
        <parent link="body"/> 
        <child link="body_square_18"/> 
        <origin xyz="0.33333333333333337 0.0 0.501" rpy="0 0 0"/> 
        <axis xyz="0 0 1"/> 
    </joint>


    <!-- body_square_19 -->
    <link name="body_square_19">
        <inertial>
            <origin xyz="0 0 0" rpy="0 0 0"/>
            <mass value="0"/>
            <inertia ixx=".1" ixy=".1" ixz=".1" iyy=".1" iyz=".1" izz=".1"/>
        </inertial>
        <visual>
            <origin xyz="0 0 0" rpy="0 0 0"/>
            <geometry>
                <box size="0.1111111111111111 0.1111111111111111 0.002"/>
            </geometry>
        </visual>
        <collision>
            <origin xyz="0 0 0" rpy="0 0 0"/>
            <geometry>
                <box size="0.1111111111111111 0.1111111111111111 0.002"/>
            </geometry>
        </collision>
    </link>


    <!-- Joint: body, body_square_19 -->
    <joint name="body_body_square_19_joint" type="fixed"> 
        <parent link="body"/> 
        <child link="body_square_19"/> 
        <origin xyz="0.11111111111111116 0.11111111111111116 0.501" rpy="0 0 0"/> 
        <axis xyz="0 0 1"/> 
    </joint>


    <!-- body_square_20 -->
    <link name="body_square_20">
        <inertial>
            <origin xyz="0 0 0" rpy="0 0 0"/>
            <mass value="0"/>
            <inertia ixx=".1" ixy=".1" ixz=".1" iyy=".1" iyz=".1" izz=".1"/>
        </inertial>
        <visual>
            <origin xyz="0 0 0" rpy="0 0 0"/>
            <geometry>
                <box size="0.1111111111111111 0.1111111111111111 0.002"/>
            </geometry>
        </visual>
        <collision>
            <origin xyz="0 0 0" rpy="0 0 0"/>
            <geometry>
                <box size="0.1111111111111111 0.1111111111111111 0.002"/>
            </geometry>
        </collision>
    </link>


    <!-- Joint: body, body_square_20 -->
    <joint name="body_body_square_20_joint" type="fixed"> 
        <parent link="body"/> 
        <child link="body_square_20"/> 
        <origin xyz="0.2222222222222222 0.11111111111111116 0.501" rpy="0 0 0"/> 
        <axis xyz="0 0 1"/> 
    </joint>


    <!-- body_square_21 -->
    <link name="body_square_21">
        <inertial>
            <origin xyz="0 0 0" rpy="0 0 0"/>
            <mass value="0"/>
            <inertia ixx=".1" ixy=".1" ixz=".1" iyy=".1" iyz=".1" izz=".1"/>
        </inertial>
        <visual>
            <origin xyz="0 0 0" rpy="0 0 0"/>
            <geometry>
                <box size="0.1111111111111111 0.1111111111111111 0.002"/>
            </geometry>
        </visual>
        <collision>
            <origin xyz="0 0 0" rpy="0 0 0"/>
            <geometry>
                <box size="0.1111111111111111 0.1111111111111111 0.002"/>
            </geometry>
        </collision>
    </link>


    <!-- Joint: body, body_square_21 -->
    <joint name="body_body_square_21_joint" type="fixed"> 
        <parent link="body"/> 
        <child link="body_square_21"/> 
        <origin xyz="0.11111111111111116 0.2222222222222222 0.501" rpy="0 0 0"/> 
        <axis xyz="0 0 1"/> 
    </joint>


</robot>
